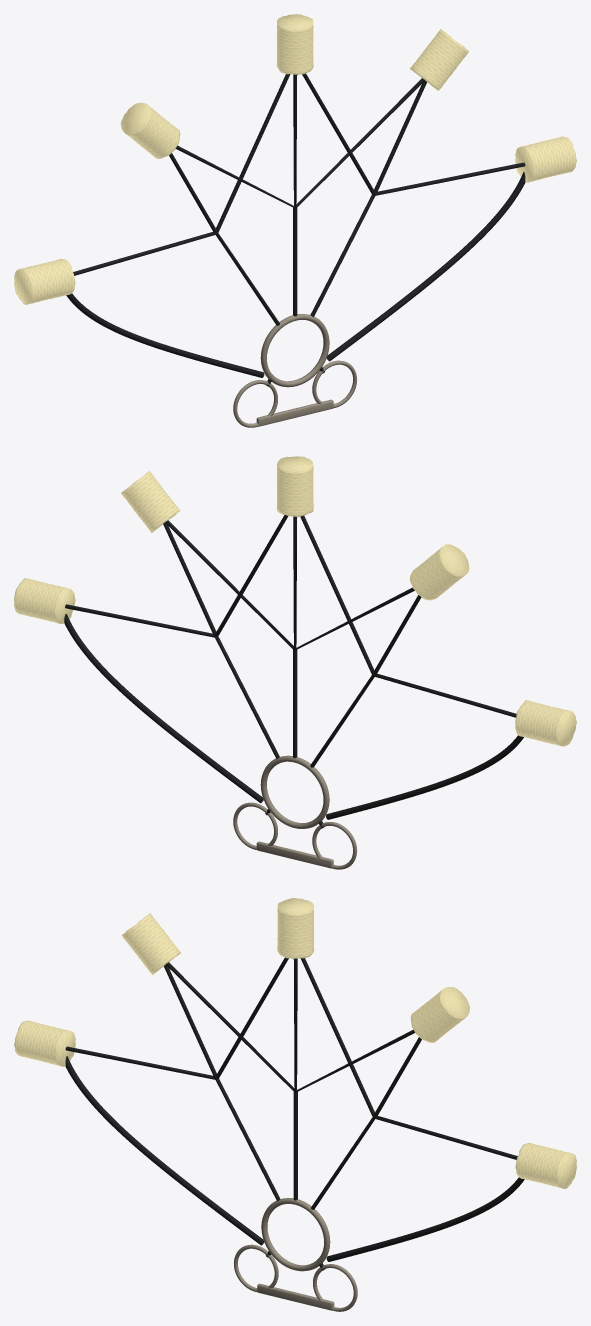
File: fan-flat-grip.glb
The picture shows the model from 3 angles, top to bottom: view 1: azimuth 30°, elevation 25°; view 2: azimuth 150°, elevation 25°; view 3: azimuth 330°, elevation 25°; orthographic projection.
Visible parts, largest first — view 1: Fan_FlatGrip, Fan_FlatGrip_FlatHandle; view 2: Fan_FlatGrip, Fan_FlatGrip_FlatHandle; view 3: Fan_FlatGrip, Fan_FlatGrip_FlatHandle.
Boxes of the visible parts, x1,y1,x2,y2 form: Fan_FlatGrip: [14, 14, 576, 427]; Fan_FlatGrip_FlatHandle: [256, 399, 333, 426]; Fan_FlatGrip: [14, 456, 576, 869]; Fan_FlatGrip_FlatHandle: [256, 841, 333, 868]; Fan_FlatGrip: [14, 898, 576, 1311]; Fan_FlatGrip_FlatHandle: [257, 1283, 334, 1310].
Size of the model in its own units: 0.4832 by 0.3353 by 0.0284.
3 materials, 1 textured.
